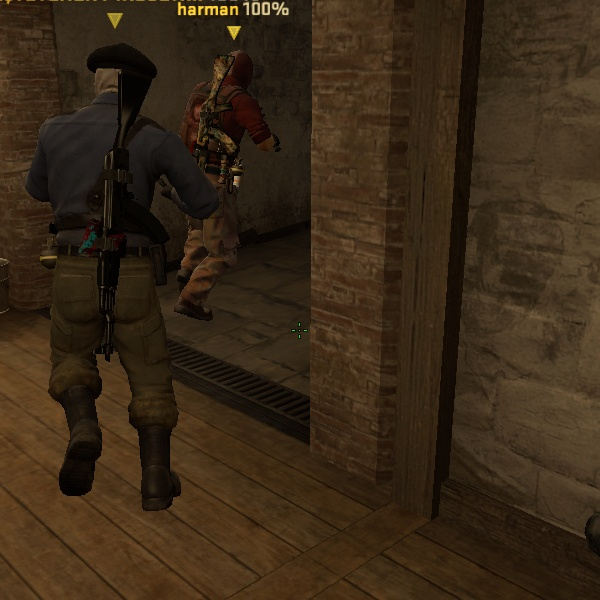t_body: (160, 41, 287, 308)
t_head: (204, 44, 264, 105)
